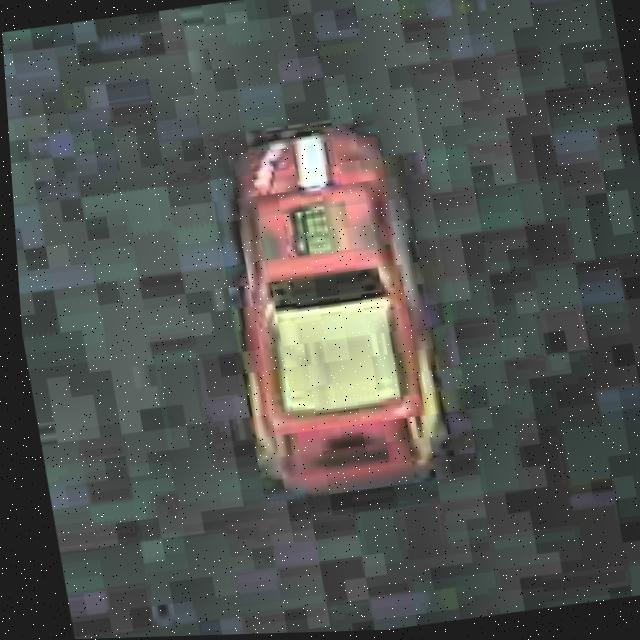car: (192, 108, 464, 509)
